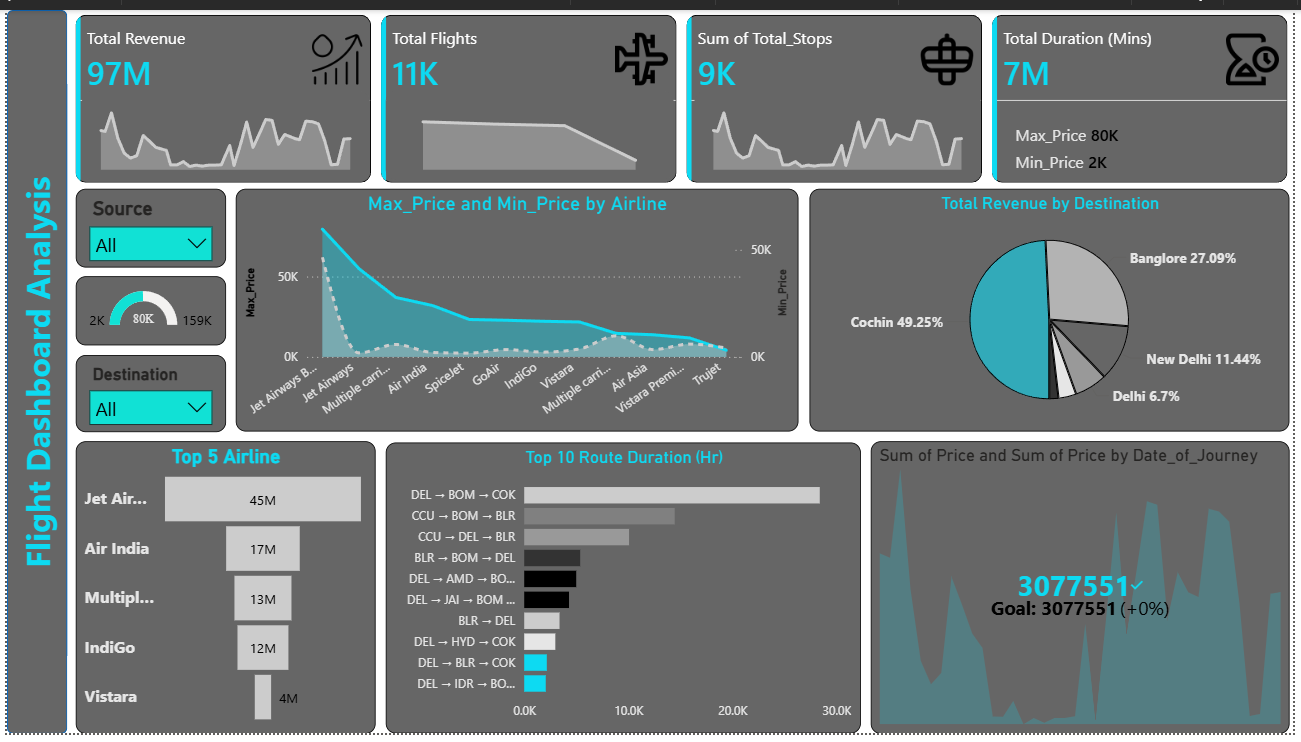

Layout of this report page (visuals, bound fields, positions):
{"tool":"powerbi","page":{"name":"Page 3","canvas":[1280,720],"ordinal":2},"visuals":[{"type":"cardVisual","fields":{"Data":["cleaned_flight_data.Total Revenue","cleaned_flight_data.Total Flights","Sum(cleaned_flight_data.Total_Stops)","Sum(cleaned_flight_data.Duration_total_mins)"]},"box":[63.4,0,1216.6,177.9],"z":0},{"type":"areaChart","fields":{"Category":["cleaned_flight_data.Date_of_Journey.Variation.Date Hierarchy.Year","cleaned_flight_data.Date_of_Journey.Variation.Date Hierarchy.Month","cleaned_flight_data.Date_of_Journey.Variation.Date Hierarchy.Day"],"Y":["Sum(cleaned_flight_data.Price)"]},"box":[74.6,80.9,286.1,88.3],"z":1000},{"type":"areaChart","fields":{"Category":["cleaned_flight_data.Month_name"],"Y":["cleaned_flight_data.Total Revenue"]},"box":[376.9,80.9,286.1,88.3],"z":2000},{"type":"areaChart","fields":{"Category":["cleaned_flight_data.Date_of_Journey.Variation.Date Hierarchy.Year","cleaned_flight_data.Date_of_Journey.Variation.Date Hierarchy.Month","cleaned_flight_data.Date_of_Journey.Variation.Date Hierarchy.Day"],"Y":["Sum(cleaned_flight_data.Price)"]},"box":[684.2,80.9,284.9,88.3],"z":3000},{"type":"funnel","title":"Top 5 Airline","fields":{"Category":["cleaned_flight_data.Airline"],"Y":["Sum(cleaned_flight_data.Price)"]},"box":[69,429.5,298,290.9],"z":4000},{"type":"areaChart","fields":{"Category":["cleaned_flight_data.Airline"],"Y":["cleaned_flight_data.Max_Price"],"Y2":["cleaned_flight_data.Min_Price"]},"box":[227.8,178.4,559.9,241.5],"z":5000},{"type":"pieChart","fields":{"Category":["cleaned_flight_data.Destination"],"Y":["cleaned_flight_data.Total Revenue"]},"box":[798.6,178.4,477.5,241.5],"z":6000},{"type":"clusteredBarChart","title":"Top 10 Route Duration (Hr)","fields":{"Category":["cleaned_flight_data.Route"],"Y":["Sum(cleaned_flight_data.Duration_hours)"]},"box":[376.9,430.4,472.7,289.8],"z":7000},{"type":"kpi","fields":{"TrendLine":["cleaned_flight_data.Date_of_Journey"],"Goal":["Sum(cleaned_flight_data.Price)"],"Indicator":["Sum(cleaned_flight_data.Price)"]},"box":[859,429.5,417.2,290.9],"z":8000},{"type":"shape","title":"Flight Analysis DashBoard","box":[0,0,60,720.4],"z":9000},{"type":"slicer","fields":{"Values":["cleaned_flight_data.Source"]},"box":[68.6,178.4,149.6,78.2],"z":9001},{"type":"slicer","fields":{"Values":["cleaned_flight_data.Destination"]},"box":[68.6,343.1,149.6,76.8],"z":9002},{"type":"gauge","fields":{"MinValue":["cleaned_flight_data.Min_Price"],"Y":["cleaned_flight_data.Max_Price"]},"box":[68.6,264.8,149.6,68.6],"z":9003}]}

Visuals, with their boxes in screenshot pixels (x1, y1, x2, y2), scaled from the page's 1280x720 canvas onto the 1301x742 screenshot:
cardVisual - cleaned_flight_data.Total Revenue x cleaned_flight_data.Total Flights: {"x1": 64, "y1": 0, "x2": 1300, "y2": 183}
areaChart - cleaned_flight_data.Date_of_Journey.Variation.Date Hierarchy.Year x cleaned_flight_data.Date_of_Journey.Variation.Date Hierarchy.Month: {"x1": 76, "y1": 83, "x2": 367, "y2": 174}
areaChart - cleaned_flight_data.Month_name x cleaned_flight_data.Total Revenue: {"x1": 383, "y1": 83, "x2": 674, "y2": 174}
areaChart - cleaned_flight_data.Date_of_Journey.Variation.Date Hierarchy.Year x cleaned_flight_data.Date_of_Journey.Variation.Date Hierarchy.Month: {"x1": 695, "y1": 83, "x2": 985, "y2": 174}
"Top 5 Airline" funnel: {"x1": 70, "y1": 443, "x2": 373, "y2": 741}
areaChart - cleaned_flight_data.Airline x cleaned_flight_data.Max_Price: {"x1": 232, "y1": 184, "x2": 801, "y2": 433}
pieChart - cleaned_flight_data.Destination x cleaned_flight_data.Total Revenue: {"x1": 812, "y1": 184, "x2": 1297, "y2": 433}
"Top 10 Route Duration (Hr)" clusteredBarChart: {"x1": 383, "y1": 444, "x2": 864, "y2": 741}
kpi - cleaned_flight_data.Date_of_Journey x Sum(cleaned_flight_data.Price): {"x1": 873, "y1": 443, "x2": 1297, "y2": 741}
"Flight Analysis DashBoard" shape: {"x1": 0, "y1": 0, "x2": 61, "y2": 741}
slicer - cleaned_flight_data.Source: {"x1": 70, "y1": 184, "x2": 222, "y2": 264}
slicer - cleaned_flight_data.Destination: {"x1": 70, "y1": 354, "x2": 222, "y2": 433}
gauge - cleaned_flight_data.Min_Price x cleaned_flight_data.Max_Price: {"x1": 70, "y1": 273, "x2": 222, "y2": 344}
